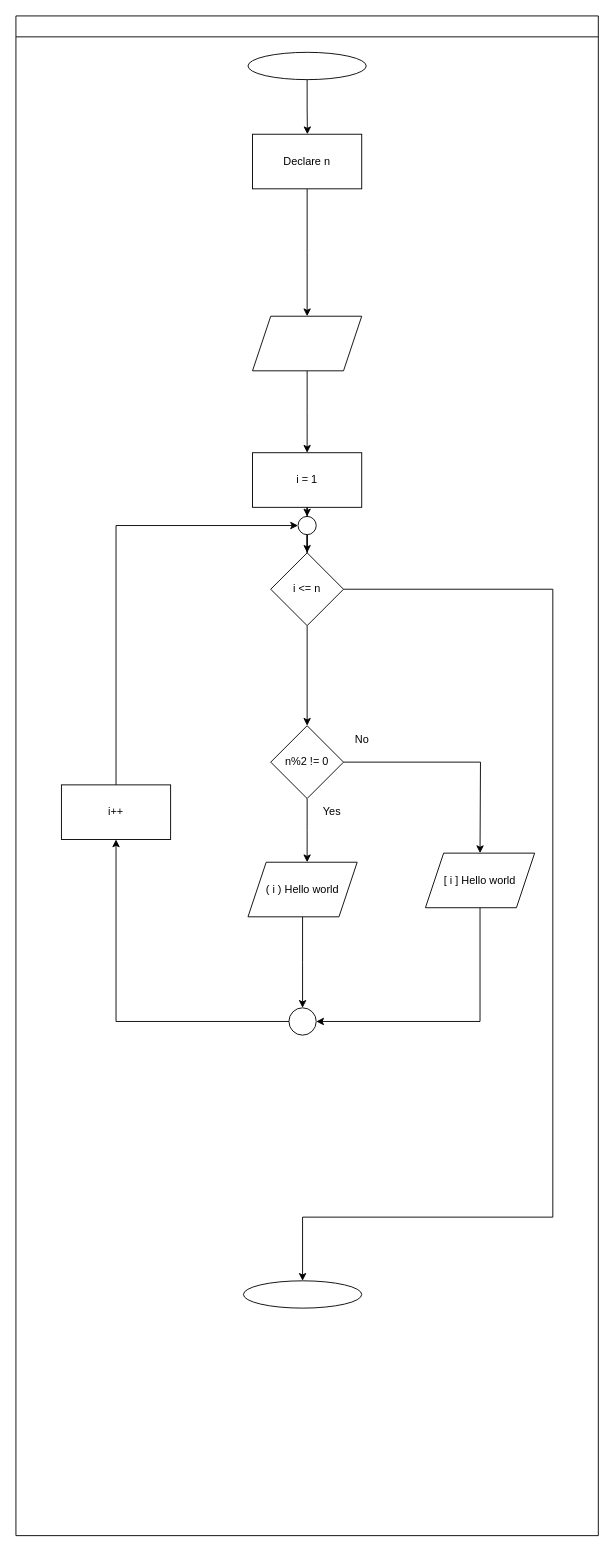
Some shapes in this 614 by 1552 pixel diagram are drawn without their labels. The box of each missing label's shape, as (x1, y1, x2, y2) in pixels:
End: (243, 1280, 362, 1308)
Read n: (252, 315, 362, 371)
Start: (247, 51, 366, 80)
